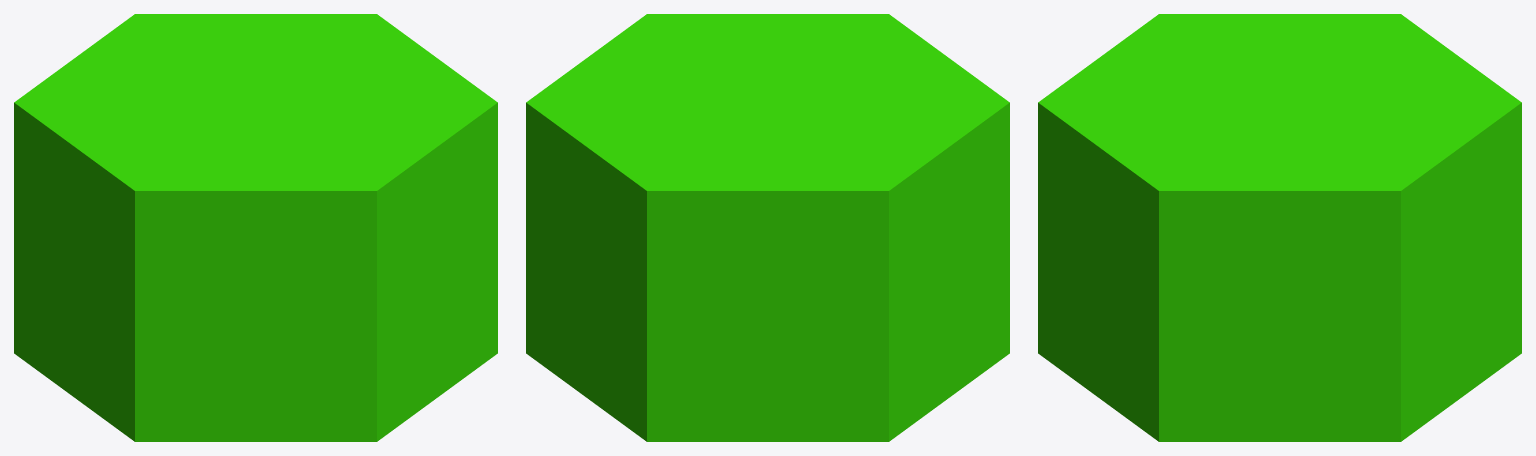
The model's file is HexBaseH3.fbx.
3 renders of one model, left to right at view 1: azimuth 30°, elevation 25°; view 2: azimuth 150°, elevation 25°; view 3: azimuth 270°, elevation 25°, orthographic.
Visible parts, largest first — view 1: HexagonTileBase; view 2: HexagonTileBase; view 3: HexagonTileBase.
Part boxes in pixels (x1,y1,x2,y2): HexagonTileBase: (14, 14, 497, 441); HexagonTileBase: (526, 14, 1009, 441); HexagonTileBase: (1038, 14, 1521, 441).
Bounding box in the file's own units: 173 × 114 × 200.
